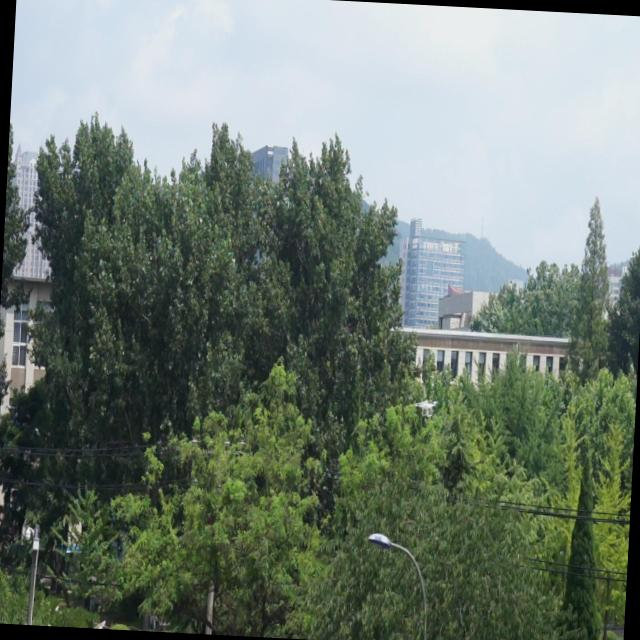drone: (414, 398, 437, 419)
